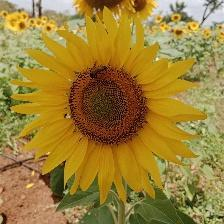sunflower: (9, 5, 207, 209)
